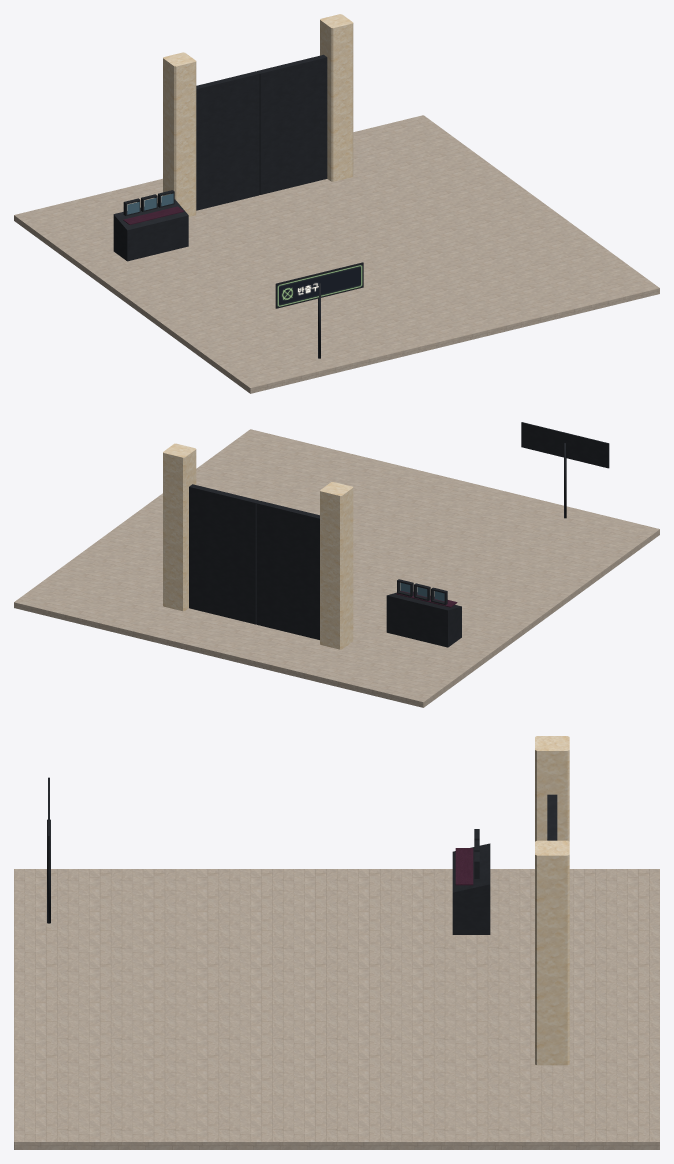
The model's file is explore3d__loading_gate.glb.
3 views of the same model, one above another, from view 1: azimuth 30°, elevation 25°; view 2: azimuth 150°, elevation 25°; view 3: azimuth 270°, elevation 25° (orthographic). The views are drawn at different scales.
Parts seen in each view (by area): view 1: Rebuilt_loading_gate; view 2: Rebuilt_loading_gate; view 3: Rebuilt_loading_gate.
Boxes of the visible parts, x1,y1,x2,y2 form: Rebuilt_loading_gate: [14, 14, 659, 393]; Rebuilt_loading_gate: [14, 422, 659, 707]; Rebuilt_loading_gate: [14, 736, 659, 1149].
Size of the model in its own units: 12 by 4.46 by 12.
6 materials, 5 textured.
